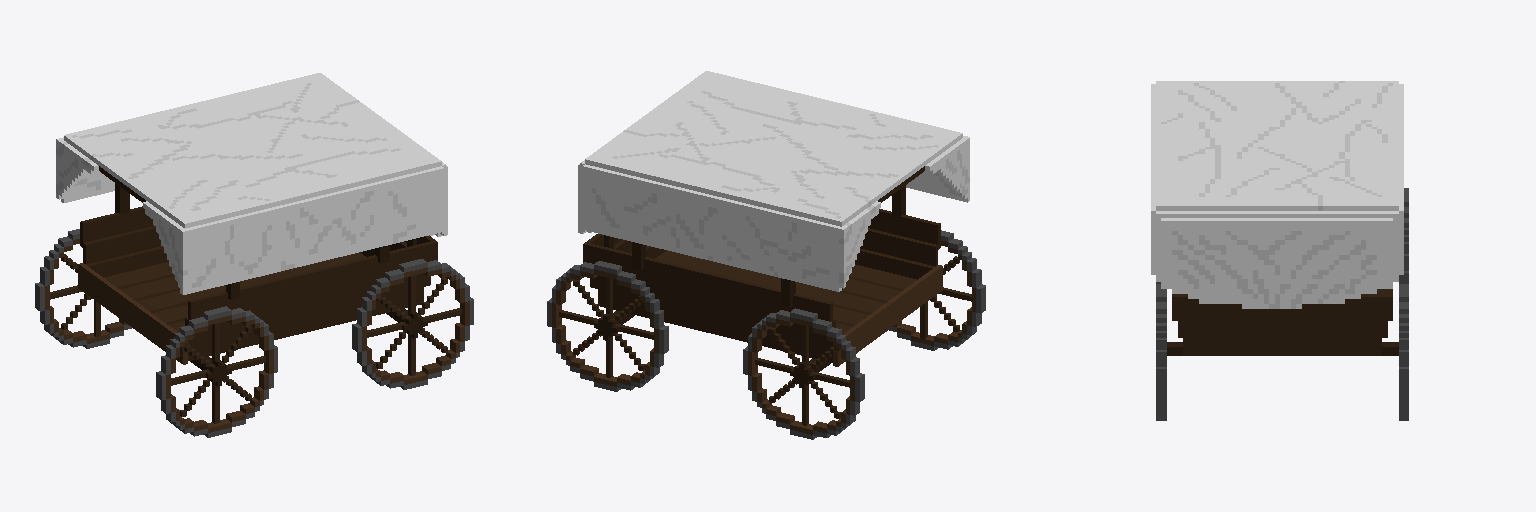
3 renders of one model, left to right at view 1: azimuth 30°, elevation 25°; view 2: azimuth 150°, elevation 25°; view 3: azimuth 270°, elevation 25°, orthographic.
Visible parts, largest first — view 1: object 1; view 2: object 1; view 3: object 1.
Part boxes in pixels (x1,y1,x2,y2): object 1: (35,73,473,437); object 1: (547,71,985,439); object 1: (1151,81,1408,420).
Bounding box in the file's own units: 6.7 × 4.5 × 4.8.
Materials: 1 (1 with a texture image).